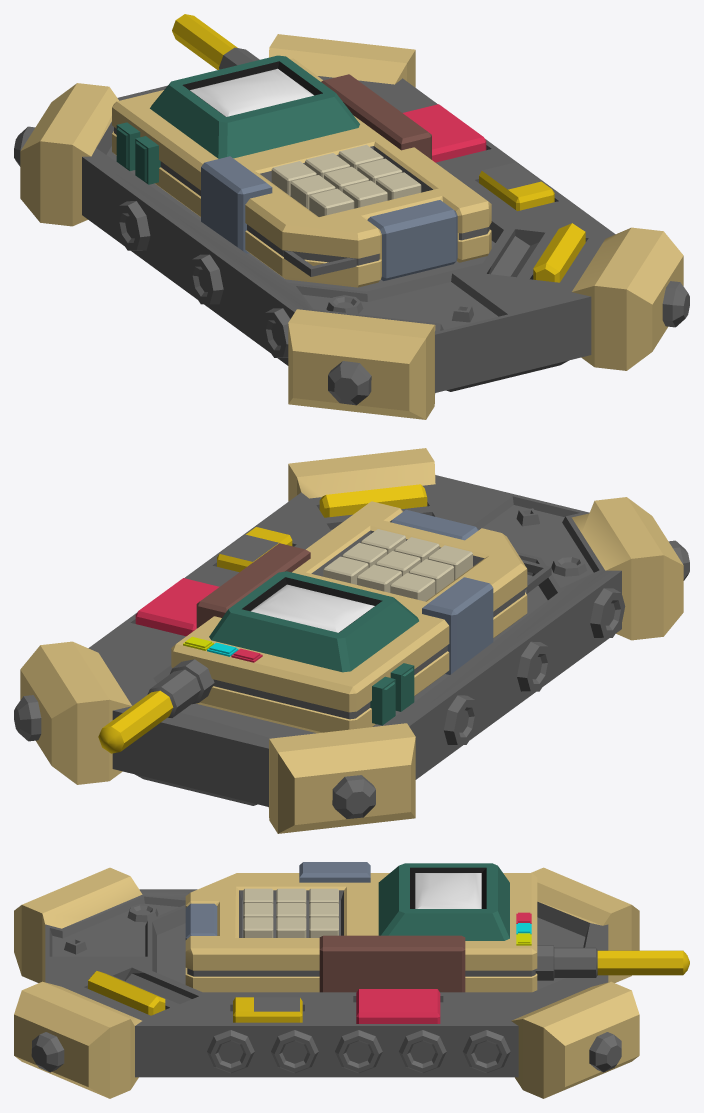
Rendered from Phone.fbx.
3 views of the same model, one above another, from view 1: azimuth 30°, elevation 25°; view 2: azimuth 150°, elevation 25°; view 3: azimuth 270°, elevation 25° (orthographic). The views are drawn at different scales.
Parts seen in each view (by area): view 1: Holder, Phone; view 2: Holder, Phone; view 3: Holder, Phone.
Part boxes in pixels (x1=…): Holder: x1=14, y1=34, x2=689, y2=419; Phone: x1=112, y1=14, x2=491, y2=287; Holder: x1=14, y1=448, x2=689, y2=833; Phone: x1=98, y1=501, x2=551, y2=753; Holder: x1=14, y1=867, x2=639, y2=1098; Phone: x1=185, y1=862, x2=689, y2=992.
Bounding box in the file's own units: 81.38 × 27.58 × 139.
